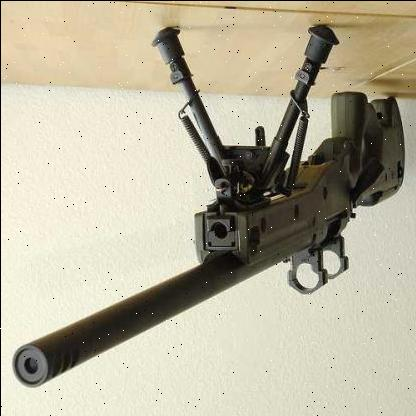rifle: (7, 63, 406, 400)
